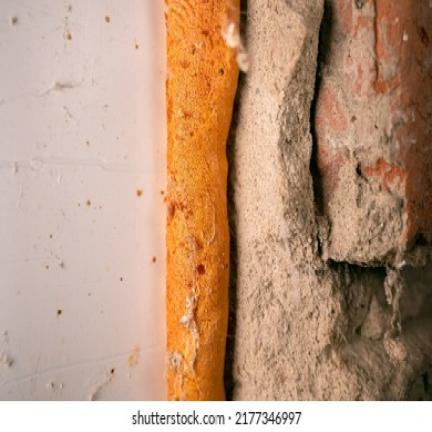besi_tidak_karat: (0, 0, 166, 401)
karat: (167, 0, 245, 401)
